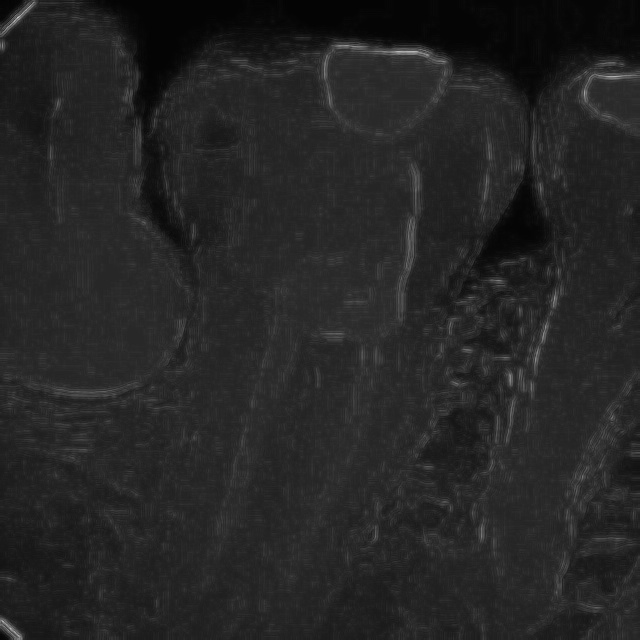Class 1- complete endodontic treatment: (134, 34, 482, 628)
